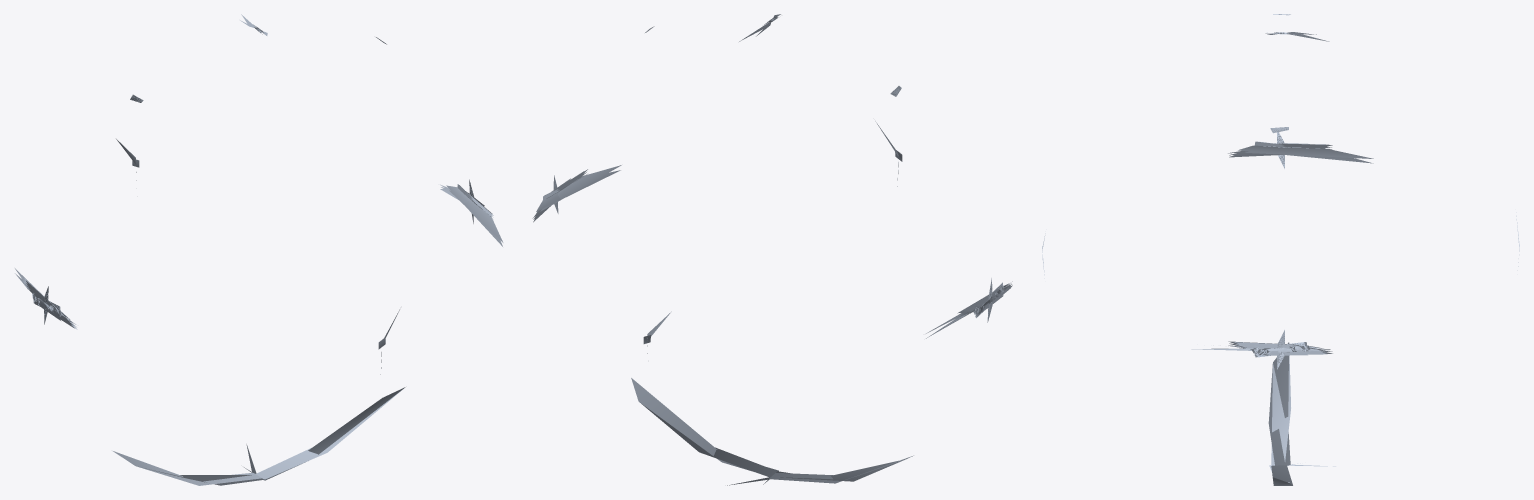
File: stage8.glb
The picture shows the model from 3 angles, left to right: view 1: azimuth 30°, elevation 25°; view 2: azimuth 150°, elevation 25°; view 3: azimuth 270°, elevation 25°; orthographic projection. The views are drawn at different scales.
Visible parts, largest first — view 1: dsf-8-structural; view 2: dsf-8-structural; view 3: dsf-8-structural.
Part boxes in pixels (x1,y1,x2,y2): dsf-8-structural: (15,14,503,485); dsf-8-structural: (532,14,1012,485); dsf-8-structural: (1042,14,1519,485).
Size of the model in its own units: 2 by 2 by 2.
